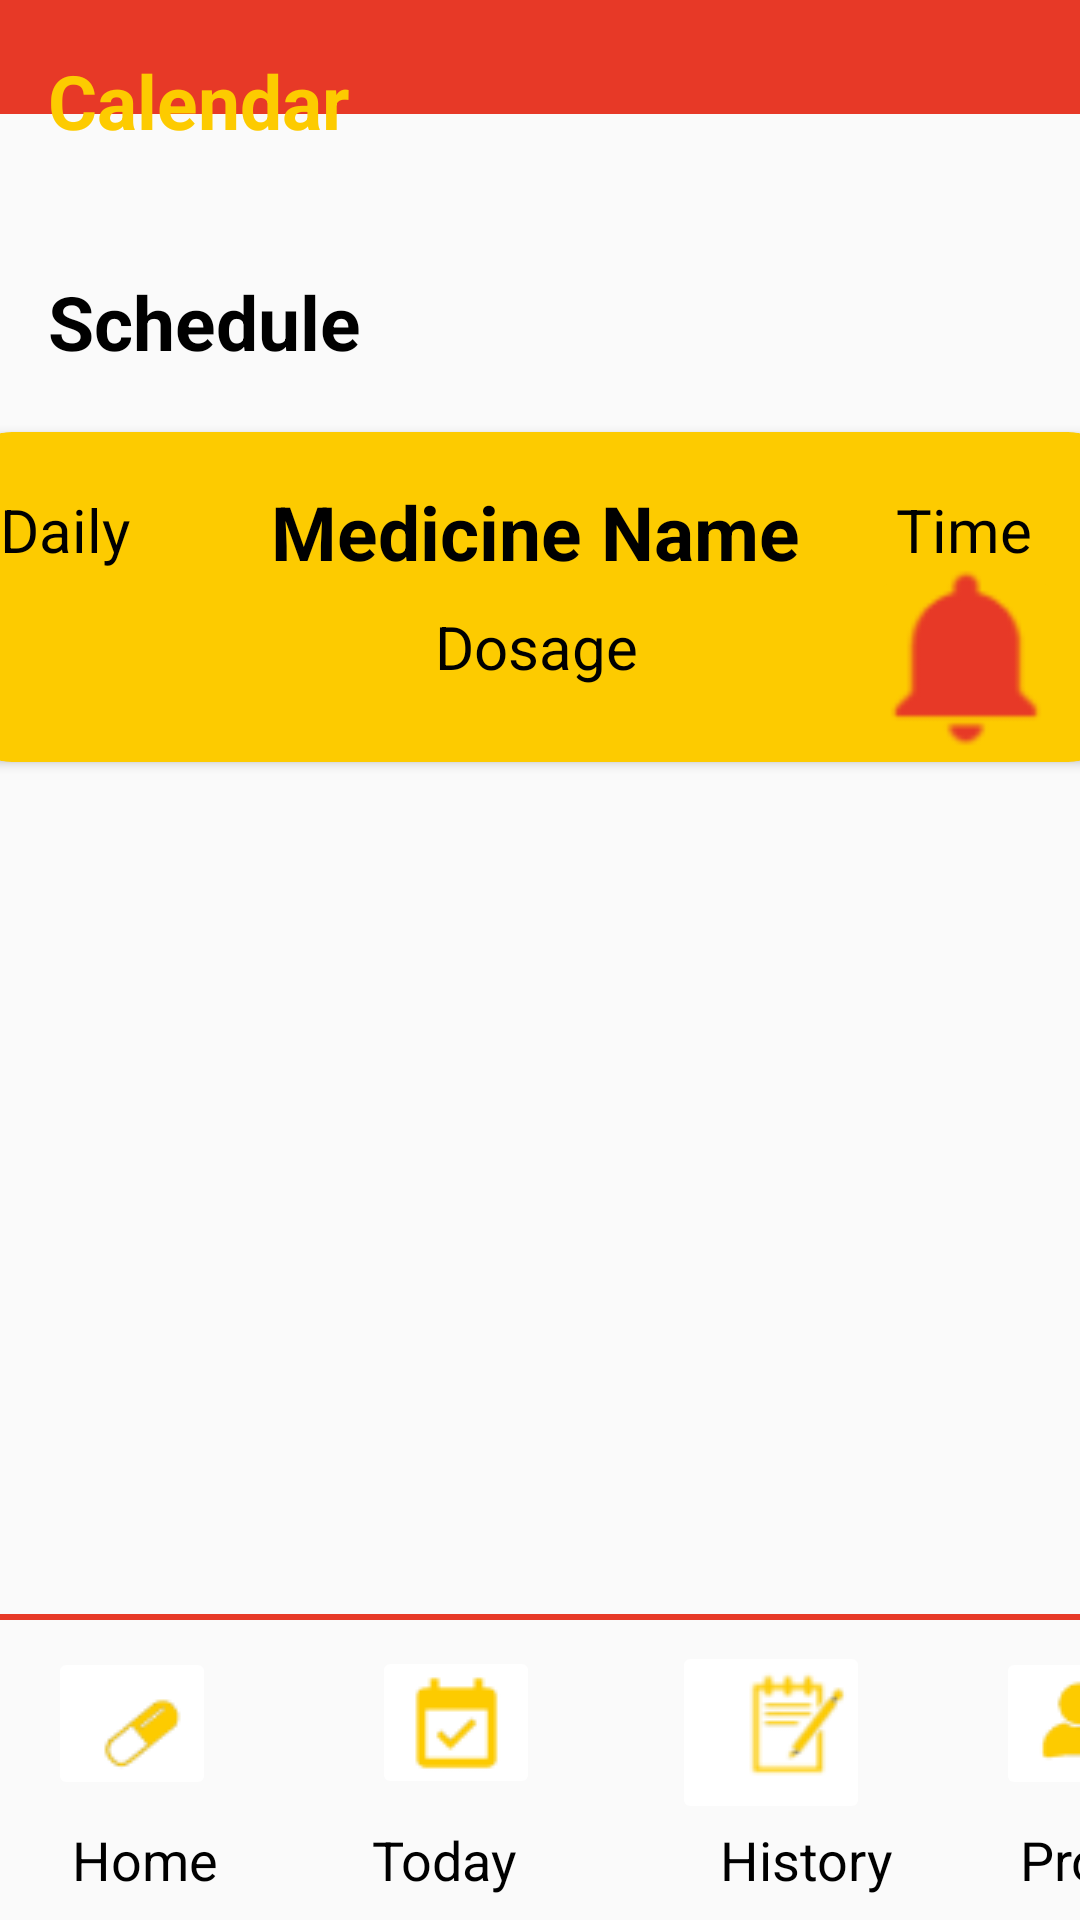

Screen size 1080w x 1920h. Icon name, then its box in pixels as (left=x1, top=y1, right=x2, bottom=y2):
alarm: (left=893, top=572, right=1038, bottom=744)
calendarr: (left=415, top=1677, right=498, bottom=1769)
